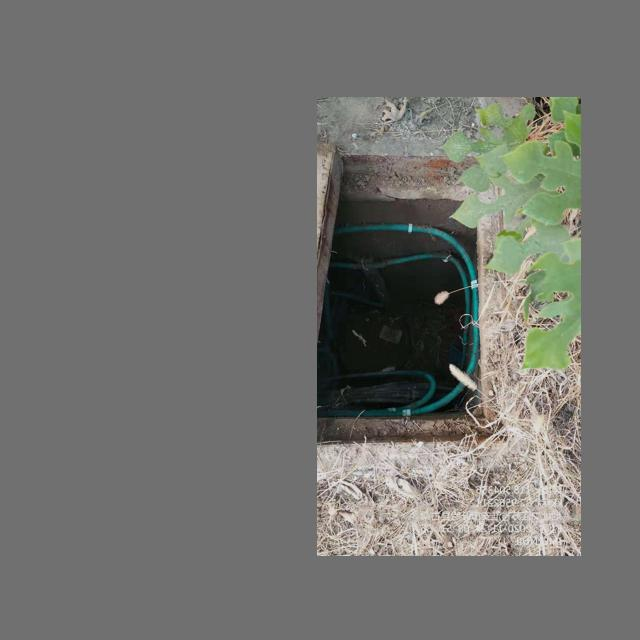lose: (317, 148, 501, 443)
